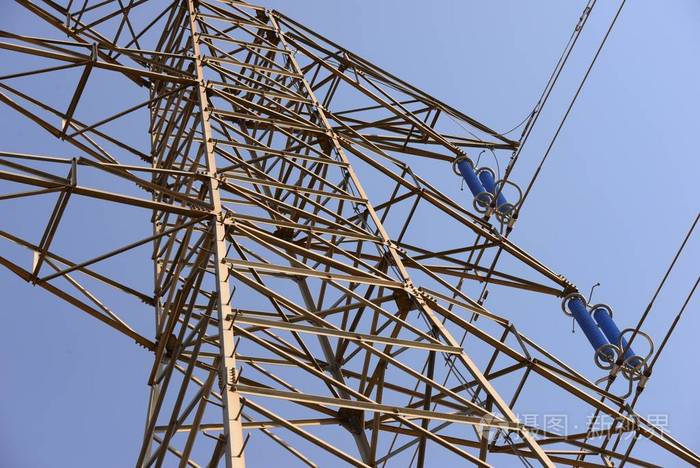insulator: (570, 297, 636, 361), (459, 159, 510, 207)
